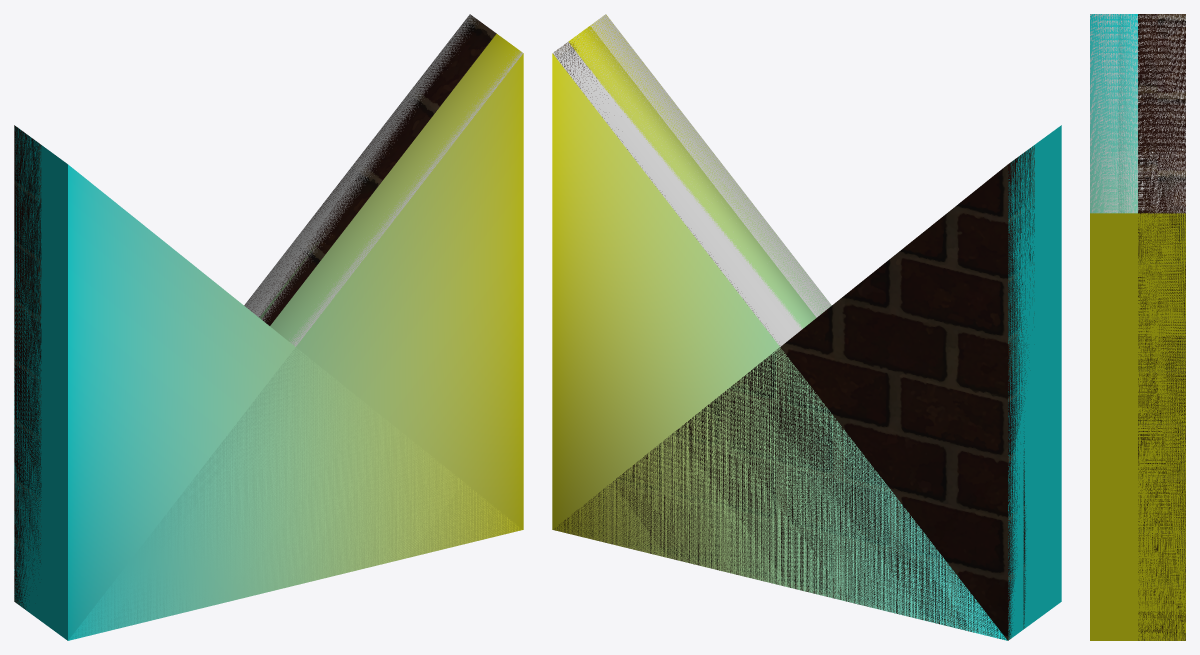
Rendered from WallCorners.fbx.
The picture shows the model from 3 angles, left to right: view 1: azimuth 30°, elevation 25°; view 2: azimuth 150°, elevation 25°; view 3: azimuth 270°, elevation 25°; orthographic projection. The views are drawn at different scales.
Parts seen in each view (by area): view 1: Wall TDM R Half, Wall T L Half, Wall TDM L Half, Wall T R Half, Wall DM R Half, Wall R Half; view 2: Wall T L Half, Wall TDM R Half, Wall T R Half, Wall L Half, Wall TDM L Half, Wall DM R Half, Wall R Half, Wall DM L Half; view 3: Wall T L Half, Wall L Half, Wall TDM R Half, Wall TDM L Half, Wall T R Half, Wall DM R Half, Wall DM L Half, Wall R Half.
Boxes of the visible parts, box(x1,y1,x2,y2) form: Wall TDM R Half: box(14, 125, 521, 640); Wall T L Half: box(68, 14, 523, 640); Wall TDM L Half: box(247, 14, 522, 345); Wall T R Half: box(14, 126, 67, 639); Wall DM R Half: box(30, 137, 52, 628); Wall R Half: box(30, 137, 52, 628); Wall T L Half: box(552, 14, 1007, 640); Wall TDM R Half: box(554, 125, 1061, 640); Wall T R Half: box(1008, 126, 1061, 639); Wall L Half: box(568, 26, 816, 328); Wall TDM L Half: box(553, 15, 831, 345); Wall DM R Half: box(1023, 137, 1045, 628); Wall R Half: box(1023, 137, 1045, 628); Wall DM L Half: box(570, 26, 815, 317); Wall T L Half: box(1090, 213, 1185, 640); Wall L Half: box(1118, 213, 1157, 640); Wall TDM R Half: box(1090, 14, 1185, 213); Wall TDM L Half: box(1090, 213, 1185, 640); Wall T R Half: box(1090, 14, 1185, 213); Wall DM R Half: box(1118, 14, 1157, 213); Wall DM L Half: box(1118, 213, 1157, 640); Wall R Half: box(1118, 14, 1157, 213).
Size of the model in its own units: 3 by 3 by 0.6103.
